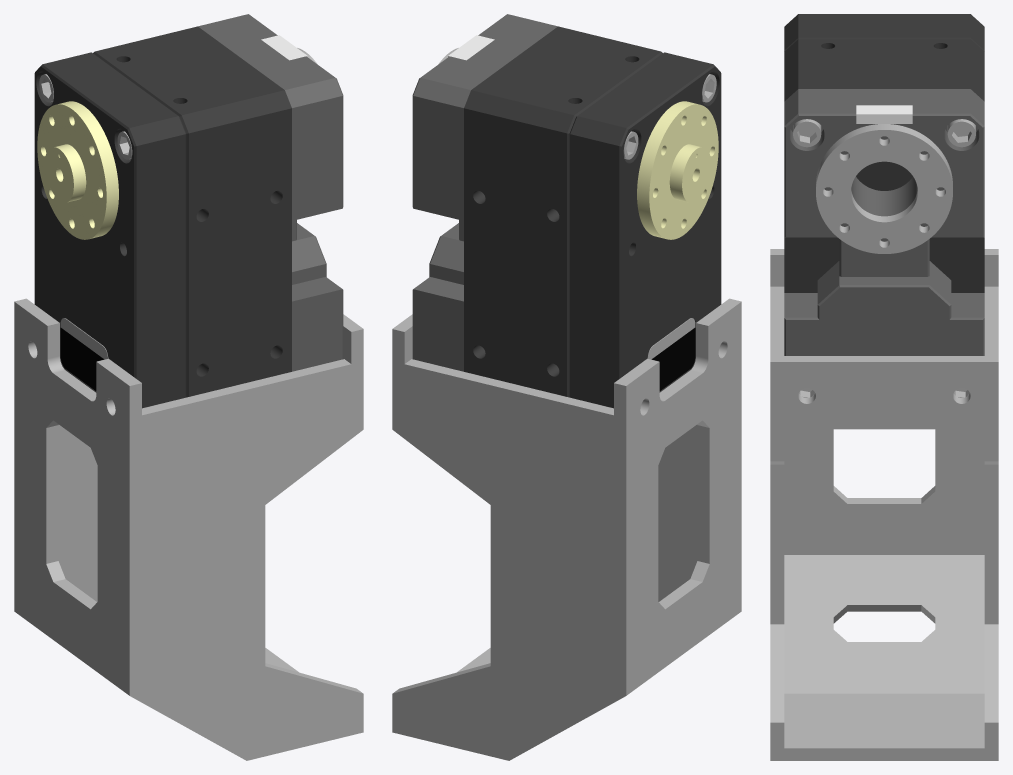
Rendered from ArmBotR.obj.
3 views of the same model, side by side, from view 1: azimuth 30°, elevation 25°; view 2: azimuth 150°, elevation 25°; view 3: azimuth 270°, elevation 25° (orthographic).
Parts seen in each view (by area): view 1: Solid1:16, Solid1:15, Solid1:3, Solid1:5, Solid1, Solid1:1, Solid1:2; view 2: Solid1:16, Solid1:15, Solid1:3, Solid1:5, Solid1, Solid1:1, Solid1:2; view 3: Solid1:16, Solid1:5, Solid1:15, Solid1:14, Solid1:3, Solid1:4, Solid1:12, Solid1:13.
Part boxes in pixels (x1,y1,x2,y2): Solid1:16: [14, 298, 363, 760]; Solid1:15: [93, 26, 291, 397]; Solid1:3: [34, 52, 186, 408]; Solid1:5: [198, 14, 343, 371]; Solid1: [37, 101, 118, 239]; Solid1:1: [60, 328, 104, 390]; Solid1:2: [60, 318, 108, 359]; Solid1:16: [392, 298, 741, 760]; Solid1:15: [464, 26, 662, 397]; Solid1:3: [569, 52, 721, 408]; Solid1:5: [412, 14, 557, 371]; Solid1: [637, 101, 718, 239]; Solid1:1: [651, 328, 695, 390]; Solid1:2: [647, 318, 695, 359]; Solid1:16: [770, 249, 998, 760]; Solid1:5: [784, 89, 984, 355]; Solid1:15: [784, 39, 984, 292]; Solid1:14: [816, 124, 952, 253]; Solid1:3: [784, 14, 984, 51]; Solid1:4: [856, 105, 912, 123]; Solid1:12: [947, 119, 975, 147]; Solid1:13: [793, 119, 821, 147].
Bounding box in the file's own units: 0.04 × 0.1005 × 0.0325.
